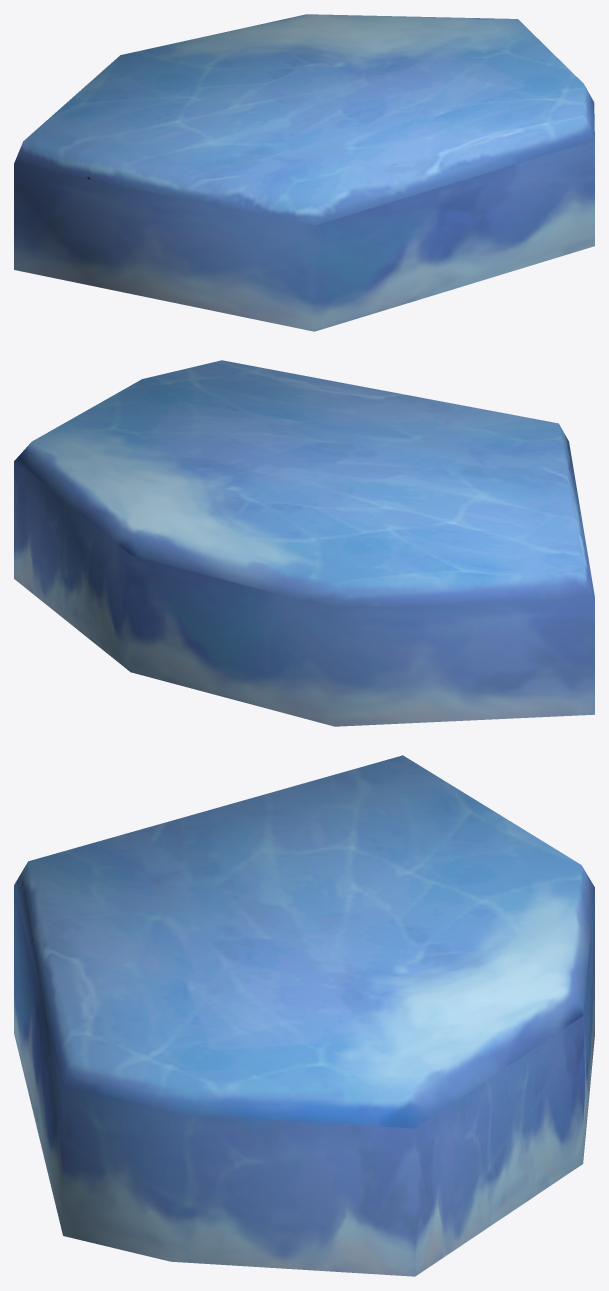
The model's file is Map_10_ice09.FBX.
3 renders of one model, top to bottom at view 1: azimuth 30°, elevation 25°; view 2: azimuth 150°, elevation 25°; view 3: azimuth 270°, elevation 25°, orthographic. The views are drawn at different scales.
Visible parts, largest first — view 1: Map_10_ice09; view 2: Map_10_ice09; view 3: Map_10_ice09.
Boxes of the visible parts, x1=… form: Map_10_ice09: x1=14, y1=14, x2=594, y2=331; Map_10_ice09: x1=14, y1=360, x2=594, y2=726; Map_10_ice09: x1=14, y1=755, x2=594, y2=1276.
Bounding box in the file's own units: 512 × 118 × 355.
1 material, 1 textured.
